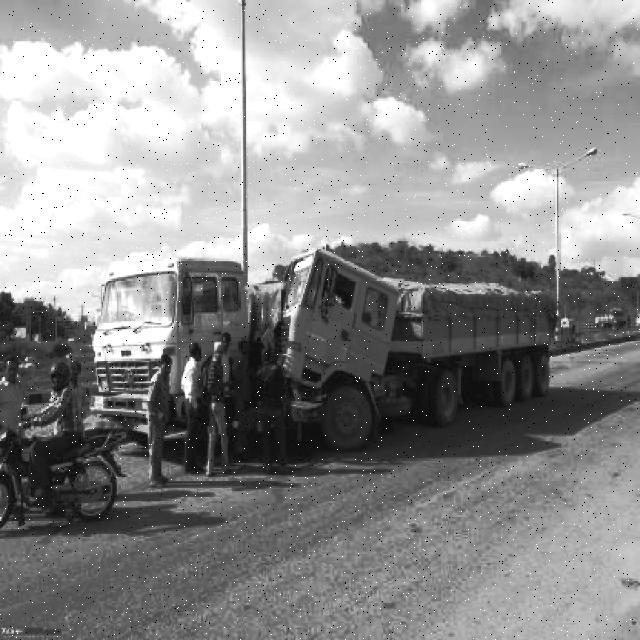HCV: (264, 248, 578, 458), (73, 238, 250, 457)
